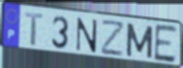3: (51, 15, 70, 51)
E: (153, 23, 179, 65)
M: (125, 22, 154, 60)
N: (75, 16, 99, 54)
T: (25, 12, 45, 47)
Z: (101, 20, 126, 58)
